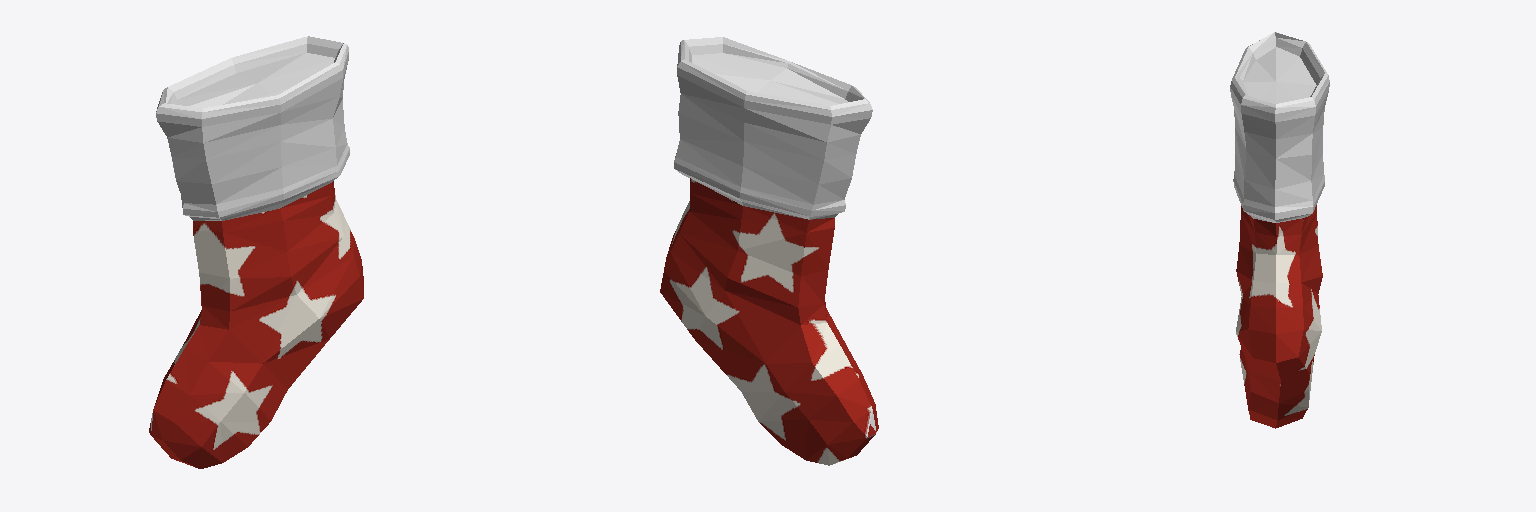
3 renders of one model, left to right at view 1: azimuth 30°, elevation 25°; view 2: azimuth 150°, elevation 25°; view 3: azimuth 270°, elevation 25°, orthographic.
Visible parts, largest first — view 1: peluche_Noel_Sock_2020.017; view 2: peluche_Noel_Sock_2020.017; view 3: peluche_Noel_Sock_2020.017.
Boxes of the visible parts, x1,y1,x2,y2 form: peluche_Noel_Sock_2020.017: [149, 36, 363, 468]; peluche_Noel_Sock_2020.017: [660, 37, 878, 465]; peluche_Noel_Sock_2020.017: [1230, 32, 1329, 428].
Bounding box in the file's own units: 0.1238 × 0.2153 × 0.0502.
2 materials, 2 textured.